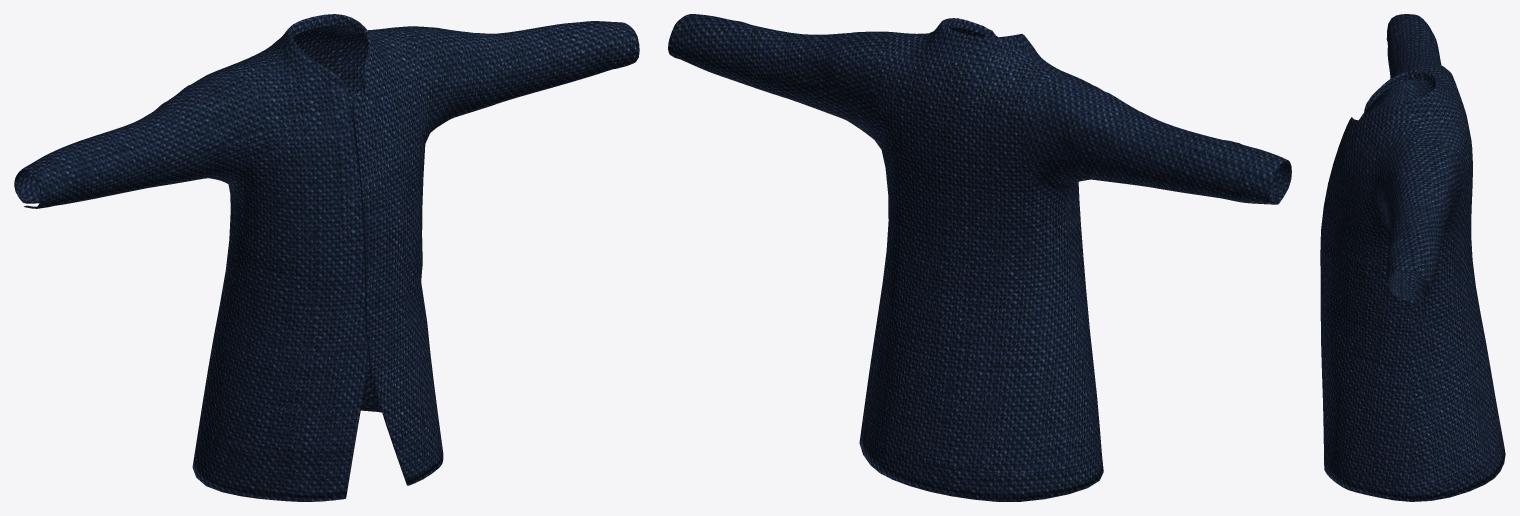
The model's file is Blue_coat.fbx.
3 views of the same model, side by side, from view 1: azimuth 30°, elevation 25°; view 2: azimuth 150°, elevation 25°; view 3: azimuth 270°, elevation 25° (orthographic). The views are drawn at different scales.
Visible parts, largest first — view 1: Box014; view 2: Box014; view 3: Box014.
Part boxes in pixels (x1,y1,x2,y2): Box014: (14,14,639,501); Box014: (668,14,1291,501); Box014: (1320,14,1505,501).
Size of the model in its own units: 4.67 by 3.17 by 1.42.
Materials: 1 (1 with a texture image).
